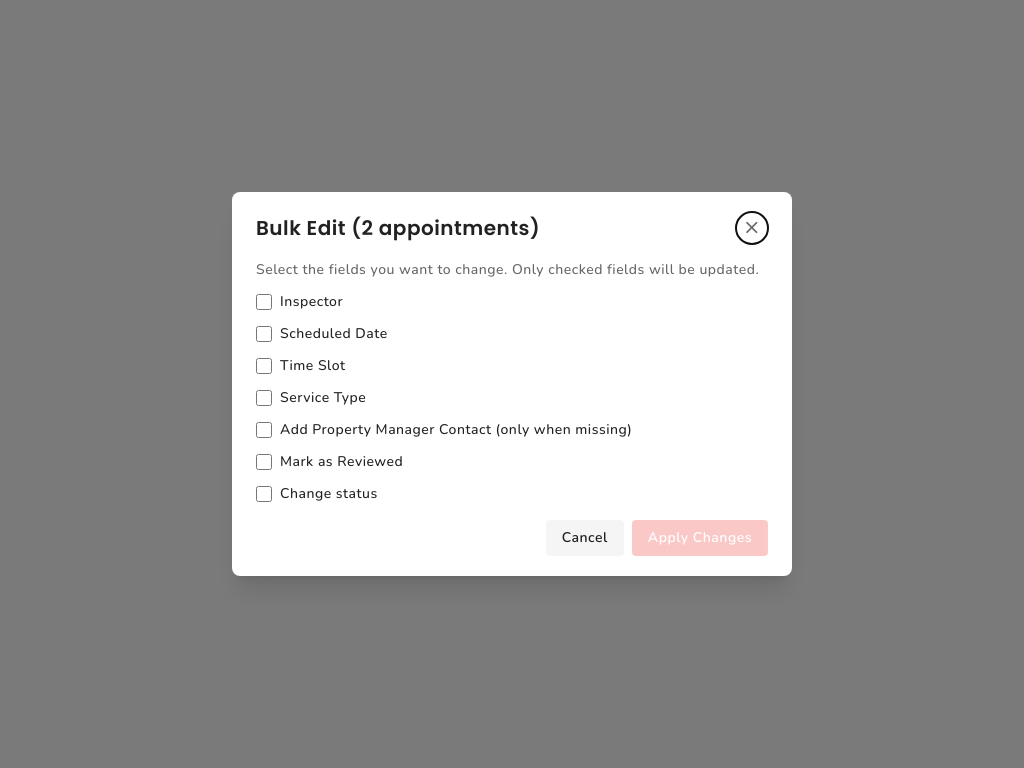
Test case: BulkEditModal › Change status › requires a reason when ANY selected row requires one for that target
Click the checkbox labelled "Change status".
click(264, 494)  # box left=256, top=486, right=272, bottom=502
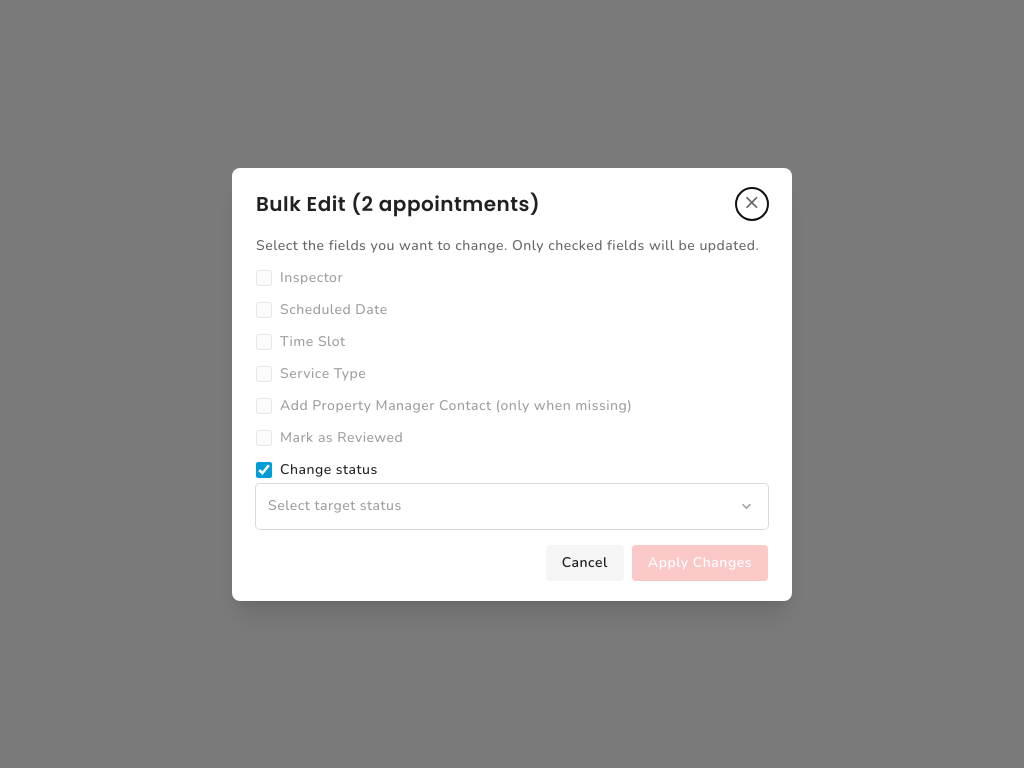
Click the button with aria-label "Set target status".
click(335, 506)  # box left=256, top=484, right=768, bottom=528
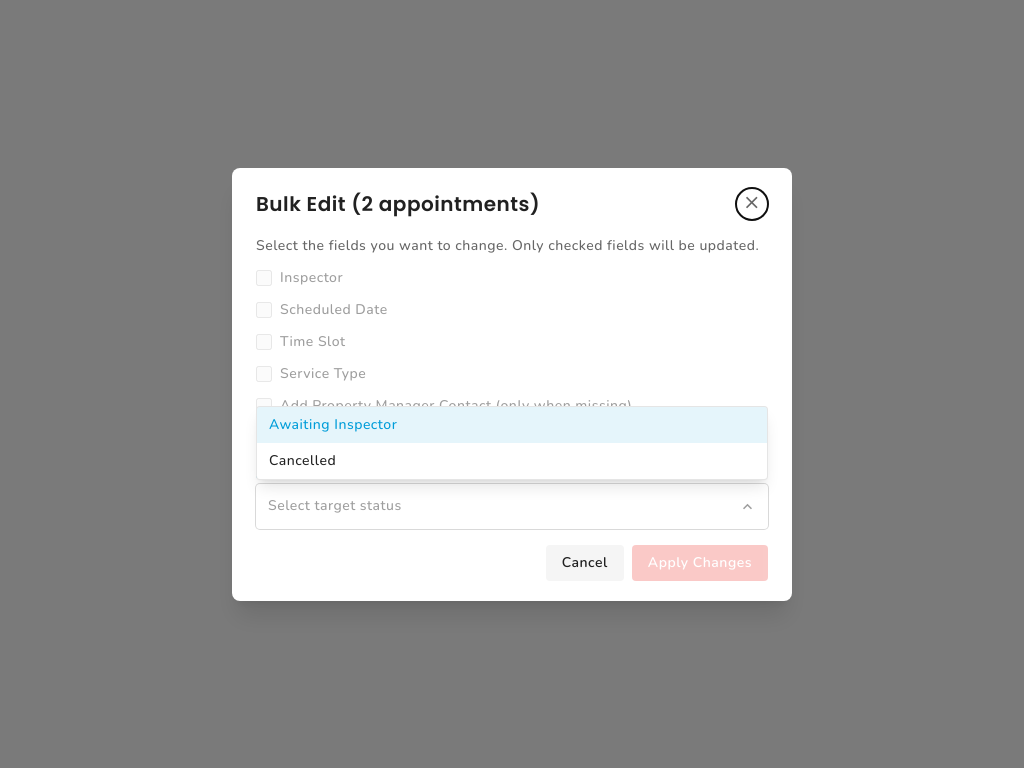
Click the option "Awaiting Inspector".
click(333, 424)  # box left=257, top=406, right=767, bottom=442
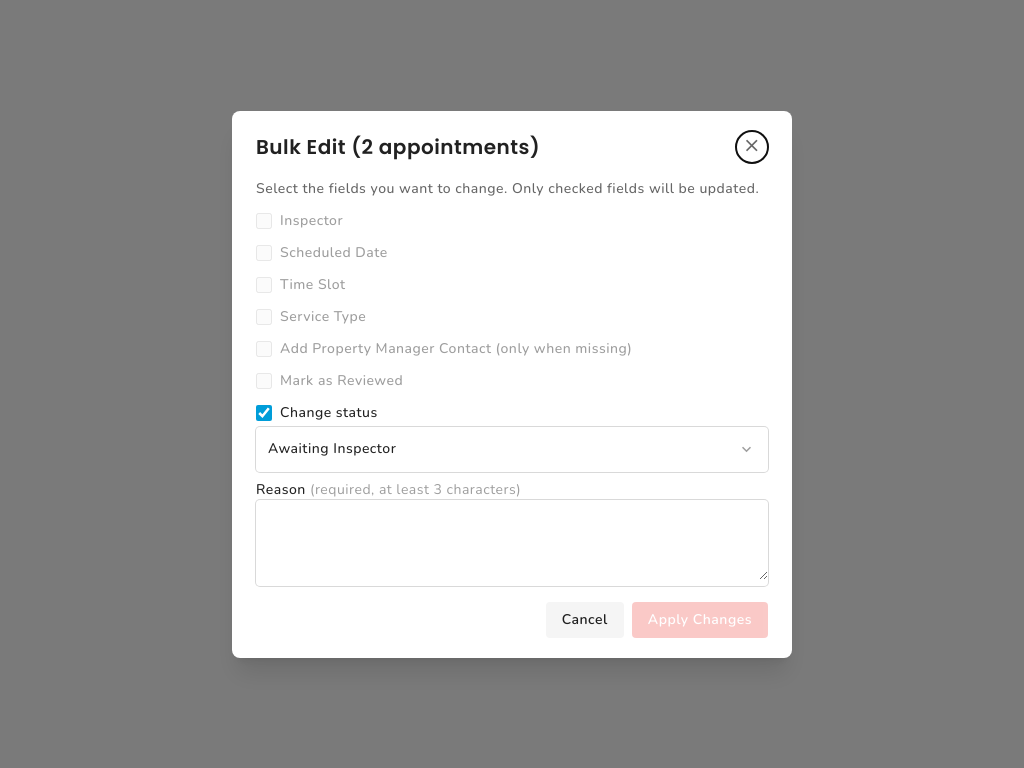
Now the text box named "Status change reason" is shown, box left=256, top=500, right=768, bottom=580
